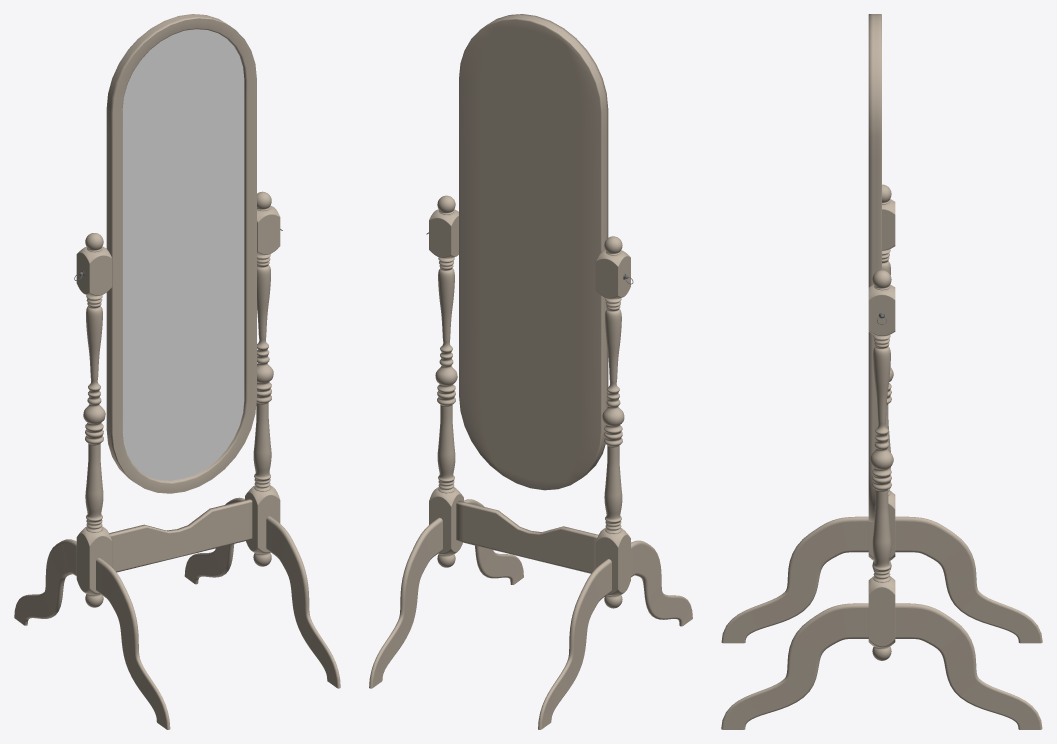
Rendered from SpecchioCamera.fbx.
The picture shows the model from 3 angles, left to right: view 1: azimuth 30°, elevation 25°; view 2: azimuth 150°, elevation 25°; view 3: azimuth 270°, elevation 25°; orthographic projection. The views are drawn at different scales.
Parts seen in each view (by area): view 1: Specchio, Struttura; view 2: Struttura; view 3: Struttura.
Part boxes in pixels (left/top/right/bottom): Specchio: left=122, top=29, right=244, bottom=480; Struttura: left=14, top=14, right=340, bottom=729; Struttura: left=369, top=14, right=692, bottom=729; Struttura: left=721, top=14, right=1042, bottom=729.
Bounding box in the file's own units: 55.7 × 164 × 71.86.
